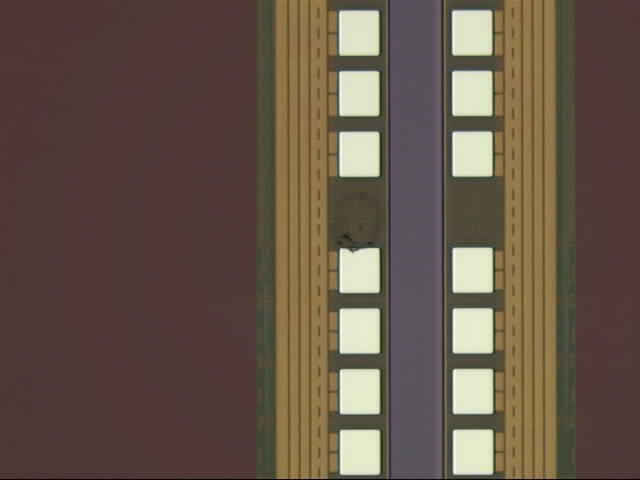PIQ PARTICLE: (336, 230, 378, 257)
